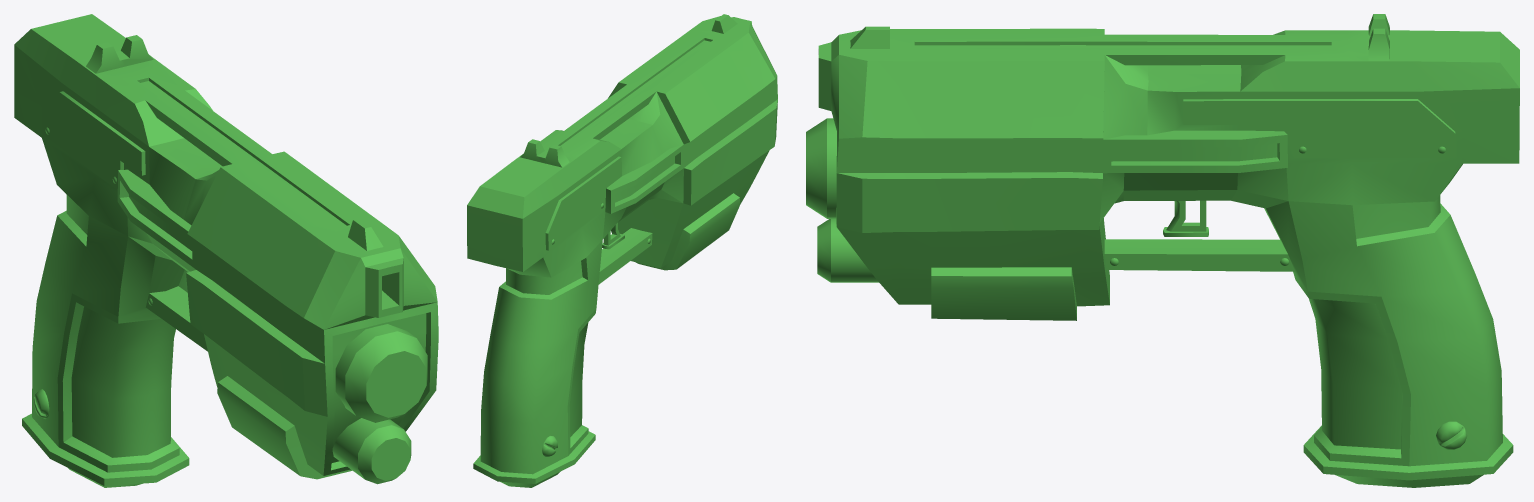
Rendered from prop_wep_gun.FBX.
3 renders of one model, left to right at view 1: azimuth 30°, elevation 25°; view 2: azimuth 150°, elevation 25°; view 3: azimuth 270°, elevation 25°, orthographic. The views are drawn at different scales.
Visible parts, largest first — view 1: wep_rg_main; view 2: wep_rg_main; view 3: wep_rg_main, wep_rg_trigger.
Part boxes in pixels (x1=…): wep_rg_main: x1=14, y1=14, x2=438, y2=487; wep_rg_main: x1=467, y1=14, x2=777, y2=487; wep_rg_main: x1=806, y1=14, x2=1519, y2=487; wep_rg_trigger: x1=1163, y1=200, x2=1208, y2=236.
Bounding box in the file's own units: 0.0594 × 0.1825 × 0.2641.
